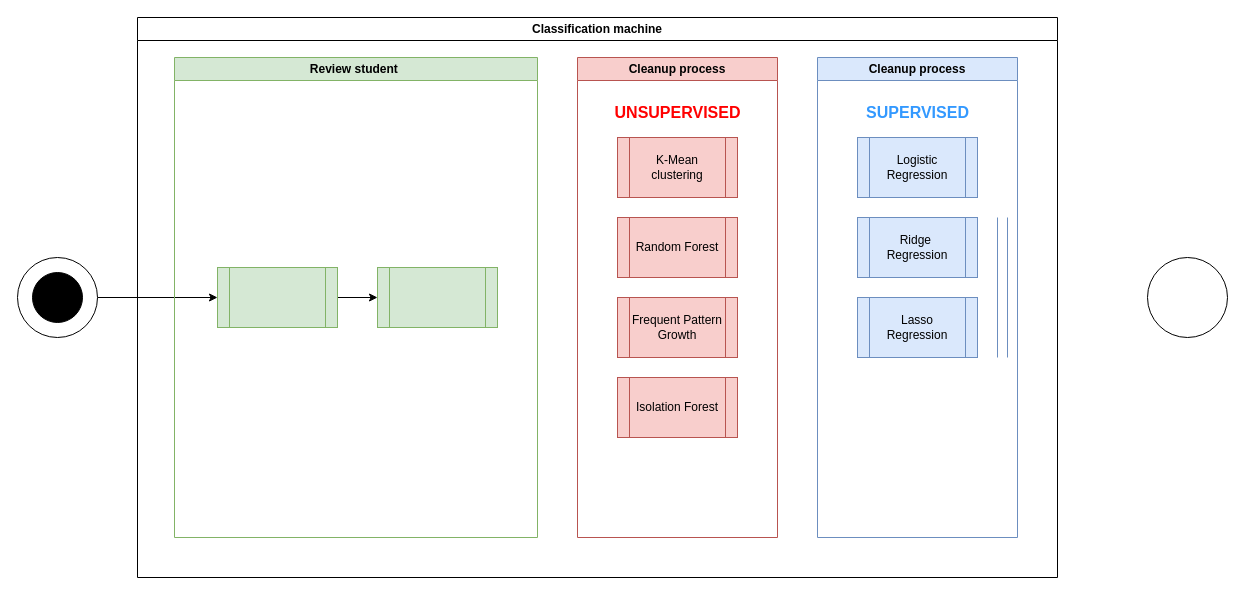
The diagram is 1245 pixels wide and 595 high, and some of its shapes have lost their labels. The centre of each missing label's shape, as x and y in pixels:
Neural Network: the point at 277,297
Principal Component Analysis: the point at 437,297
